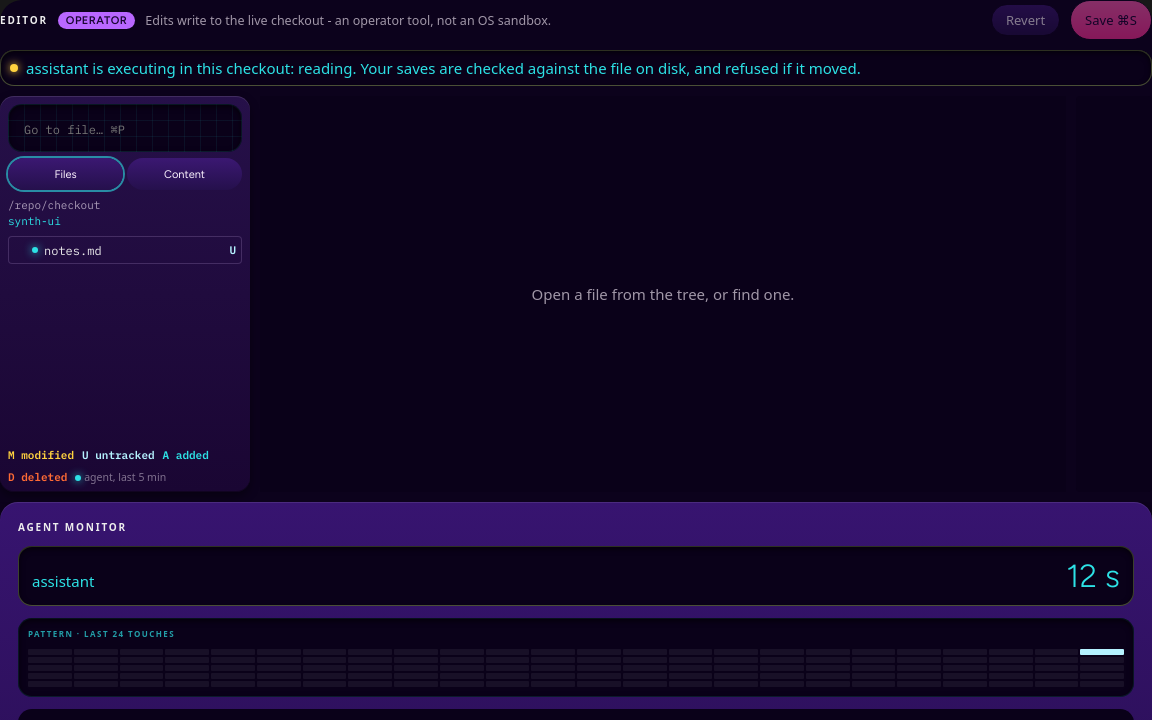
Test: draws the spec's parts: browser, tabs, code, map, monitor and status
This screenshot has width=1152, height=720.
Click the text "notes.md" at (73, 250), box [44,242,102,258]
(page scrolled)
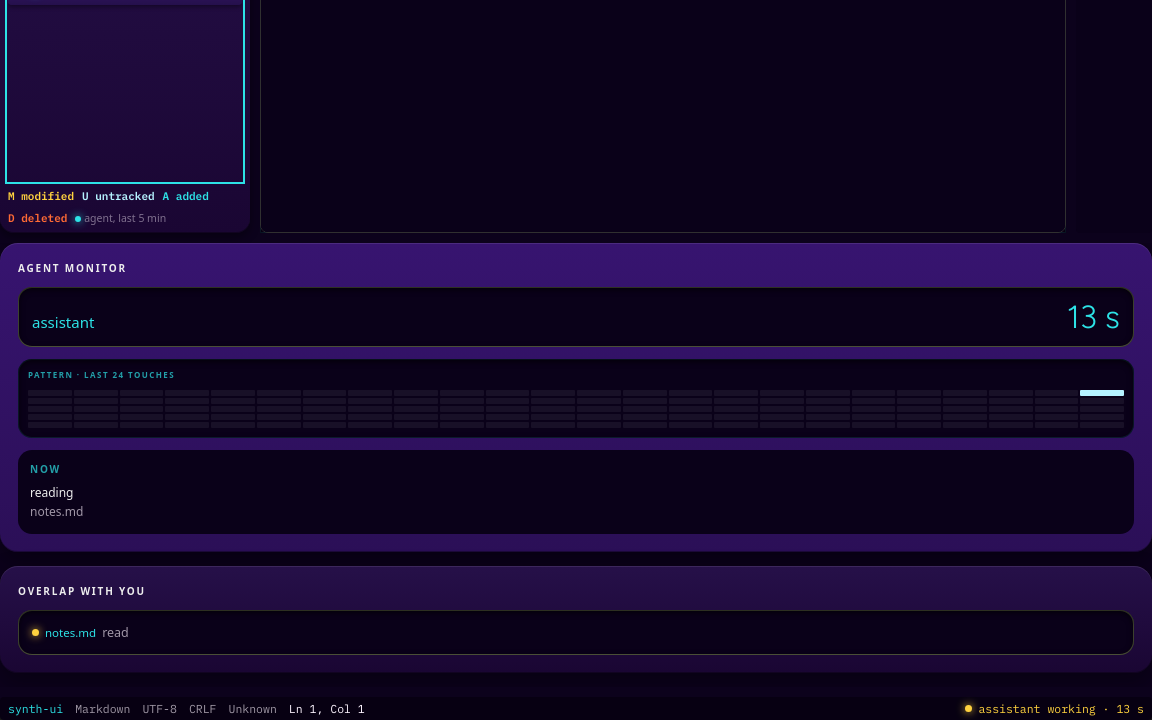
Result: the footer named "Editor status" shows "Ln 1, Col 1" at [289,701,365,716]
Result: the footer named "Editor status" shows "CRLF" at [189,701,216,716]
Result: the footer named "Editor status" shows "UTF-8" at [142,701,177,716]
